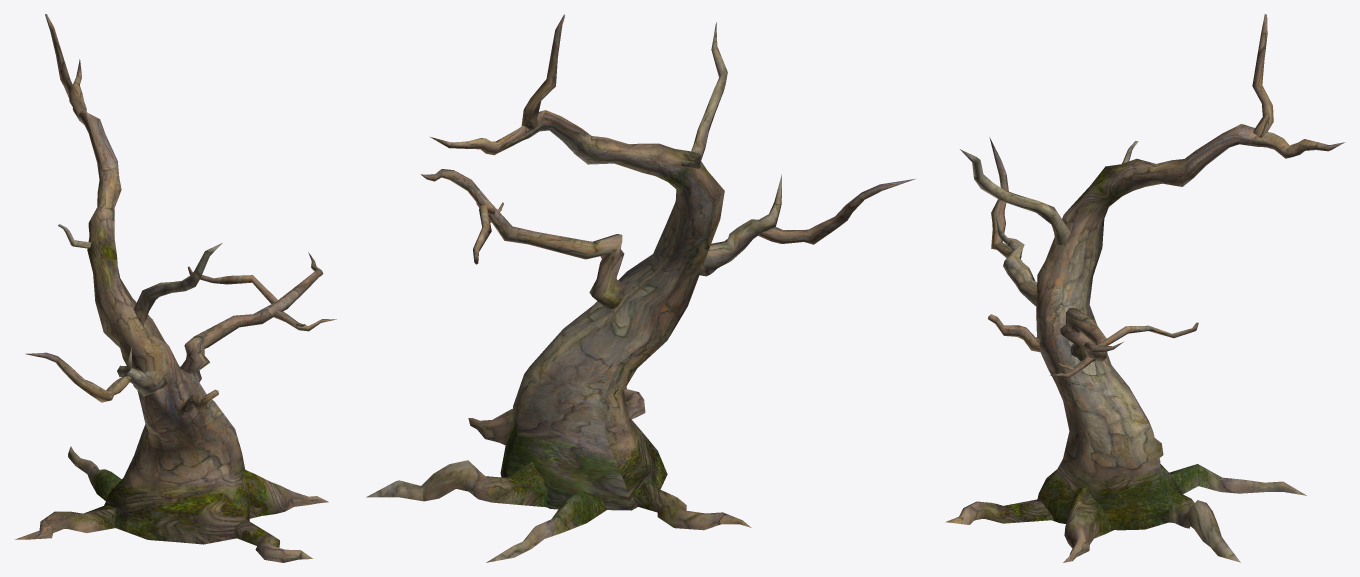
File: shi_gan_01.FBX
3 renders of one model, left to right at view 1: azimuth 30°, elevation 25°; view 2: azimuth 150°, elevation 25°; view 3: azimuth 270°, elevation 25°, orthographic. The views are drawn at different scales.
Parts seen in each view (by area): view 1: shi_gan_01; view 2: shi_gan_01; view 3: shi_gan_01.
Boxes of the visible parts, x1,y1,x2,y2 form: shi_gan_01: (15,14,336,562); shi_gan_01: (366,14,914,562); shi_gan_01: (945,14,1345,562).
Size of the model in its own units: 56.03 by 69.93 by 54.97.
